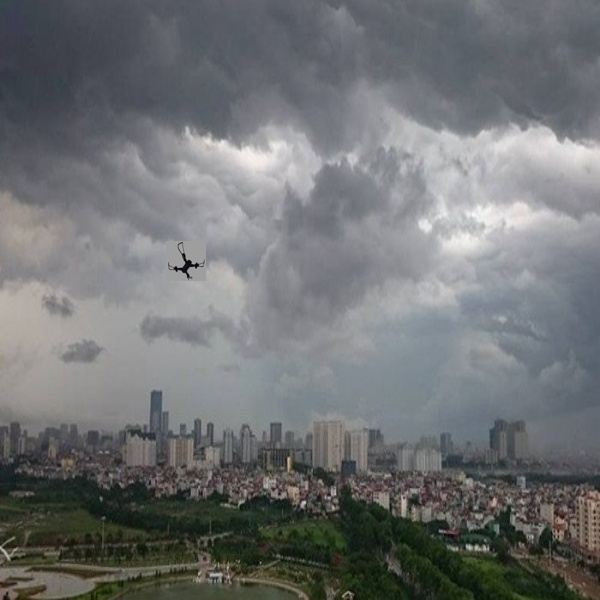drone: (165, 238, 204, 282)
